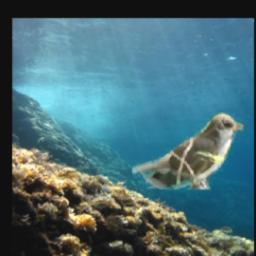Cuckoo: (132, 113, 244, 190)
